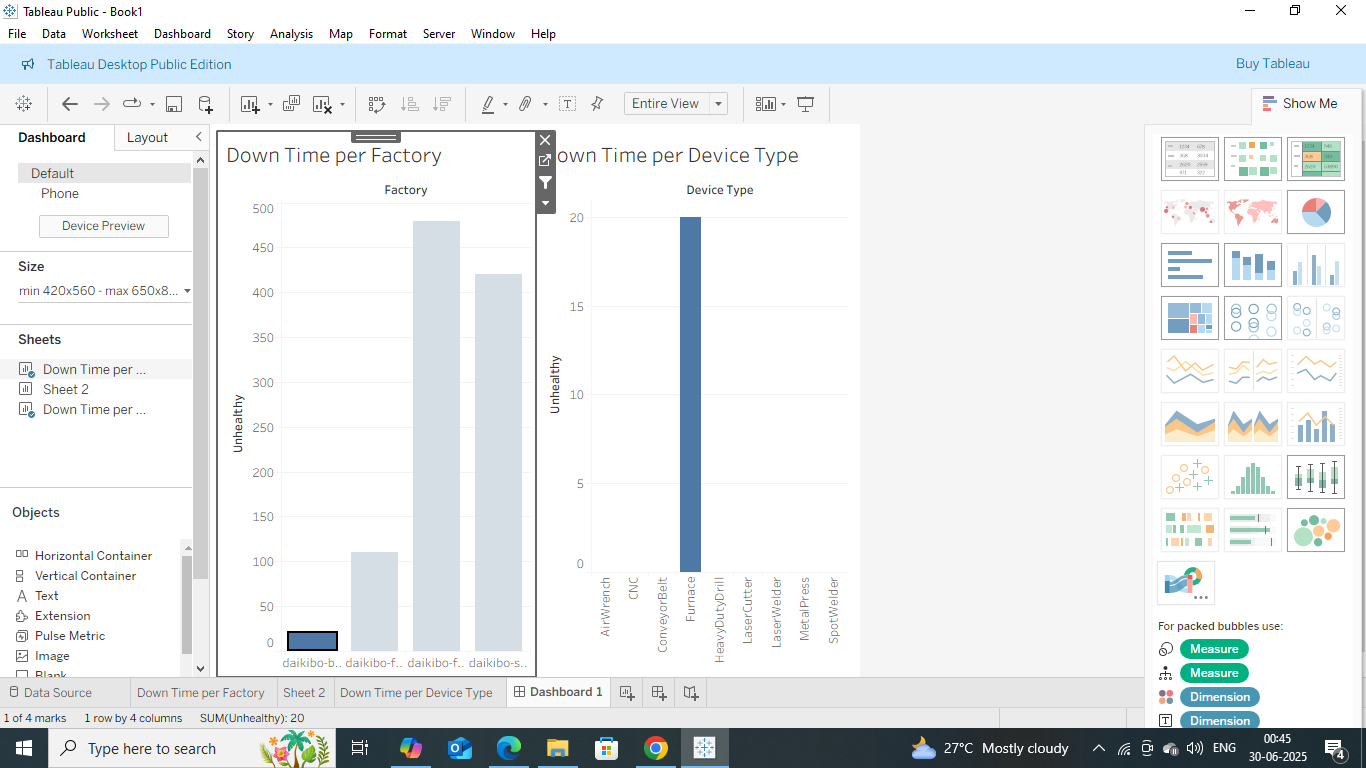

The page's visual inventory and layout, read from the dashboard file:
{"tool":"tableau","page":{"name":"Dashboard 1","canvas":[650,860],"ordinal":0},"visuals":[{"type":"worksheet","title":"Down Time per Factory","mark":"Automatic","rows":["Calculation_84723994354982912"],"cols":["factory"],"box":[8,12.3,317,835.4]},{"type":"worksheet","title":"Down Time per Device Type","mark":"Automatic","rows":["Calculation_84723994354982912"],"cols":["deviceType"],"box":[325,12.3,317,835.4]}]}

Visuals, with their boxes on the page's 650x860 design canvas (x1, y1, x2, y2). These are canvas units, not pixel positions in the 1366x768 screenshot, which may show the page scaled, cropped or inside an application window:
"Down Time per Factory" worksheet: {"x1": 8, "y1": 12, "x2": 325, "y2": 848}
"Down Time per Device Type" worksheet: {"x1": 325, "y1": 12, "x2": 642, "y2": 848}
